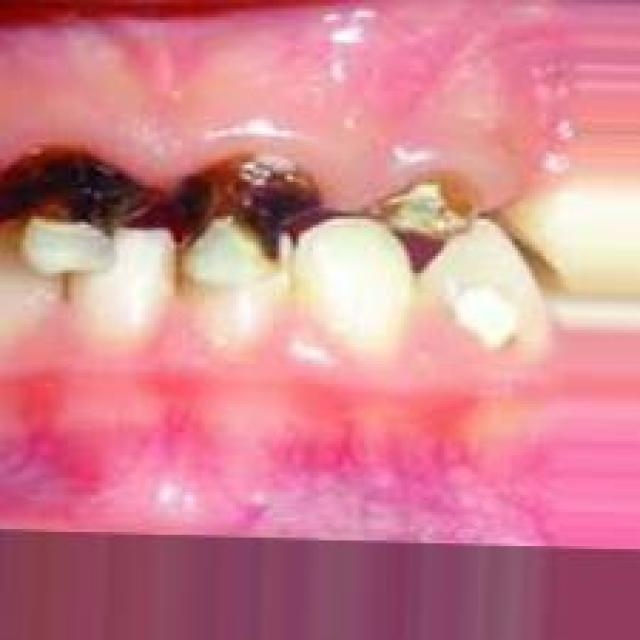caries: (0, 123, 160, 287), (163, 139, 330, 295), (364, 161, 486, 264)
